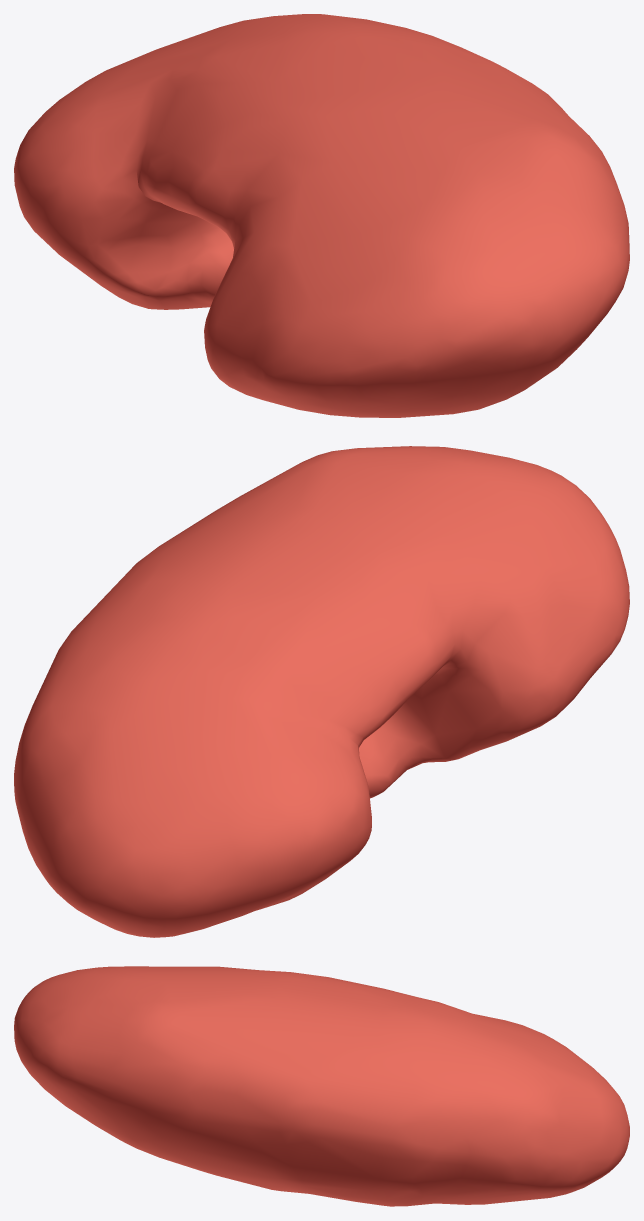
The model's file is left_kidney.glb.
3 renders of one model, top to bottom at view 1: azimuth 30°, elevation 25°; view 2: azimuth 150°, elevation 25°; view 3: azimuth 270°, elevation 25°, orthographic. The views are drawn at different scales.
Visible parts, largest first — view 1: grp1; view 2: grp1; view 3: grp1.
Boxes of the visible parts, box(x1,y1,x2,y2) form: grp1: box(14, 14, 629, 417); grp1: box(14, 446, 629, 937); grp1: box(14, 966, 629, 1206).
Bounding box in the file's own units: 57.54 × 40.59 × 106.
